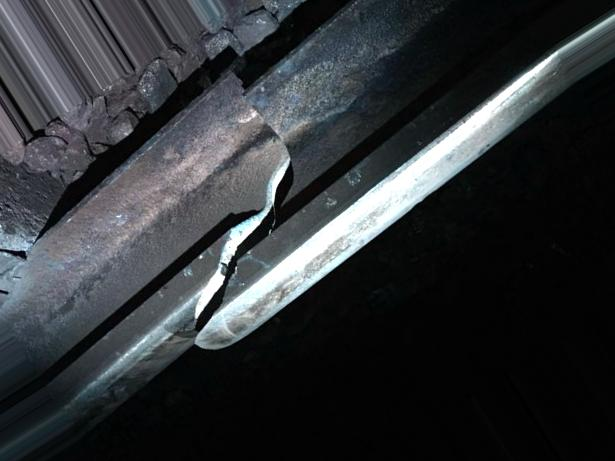tracks_fault: (199, 66, 325, 355)
